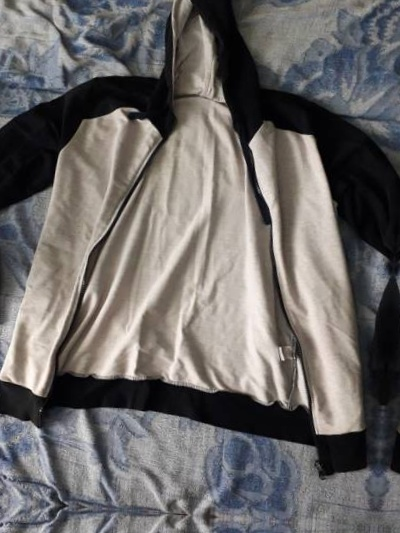Hoodie: (0, 0, 400, 475), (386, 0, 400, 507)
